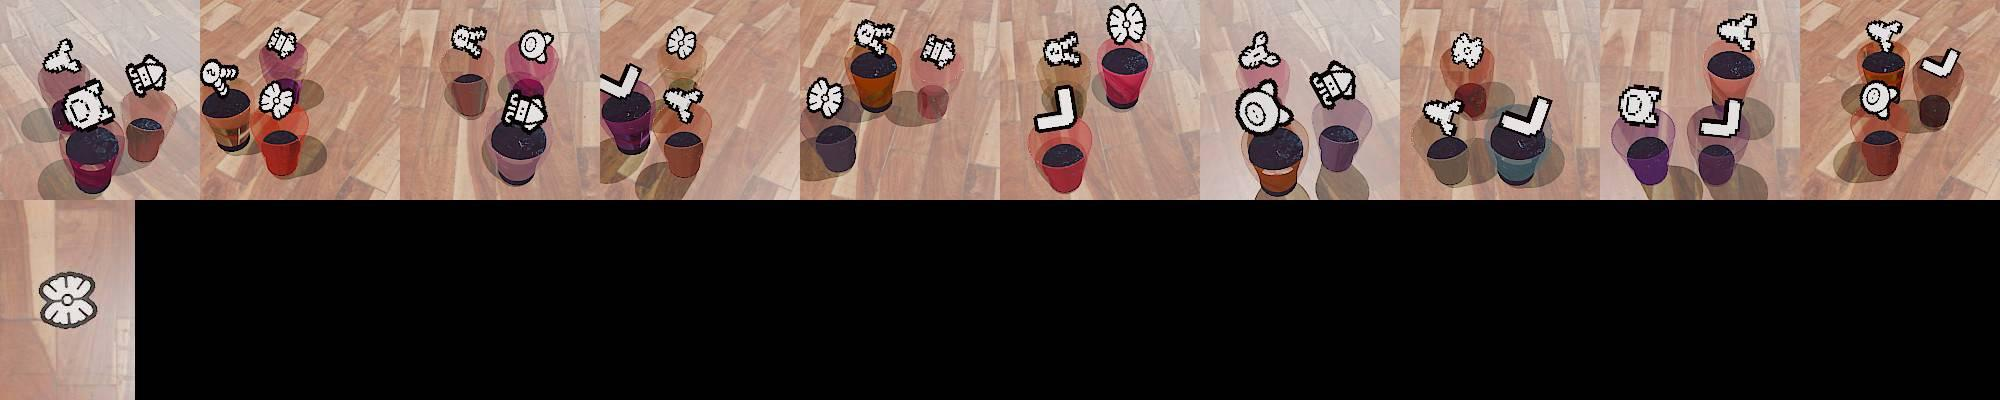icon: (1235, 79, 1293, 139), (37, 271, 97, 330), (60, 79, 114, 130), (1497, 93, 1554, 138), (1310, 60, 1357, 110), (1033, 82, 1078, 132), (503, 89, 550, 130), (125, 54, 168, 97), (1619, 83, 1663, 125), (1699, 96, 1744, 138), (1105, 3, 1147, 46), (1716, 13, 1758, 55), (805, 75, 846, 118), (1422, 97, 1463, 139), (662, 84, 705, 124), (599, 61, 644, 99), (1239, 31, 1281, 70), (1858, 80, 1901, 120), (200, 57, 241, 97), (258, 79, 296, 120), (1866, 19, 1904, 55), (1450, 32, 1486, 69), (518, 28, 555, 64), (921, 33, 958, 69), (853, 20, 892, 55), (1042, 33, 1080, 68), (1918, 47, 1960, 78), (450, 23, 486, 59), (43, 38, 80, 73), (665, 25, 699, 60), (265, 25, 298, 59)
